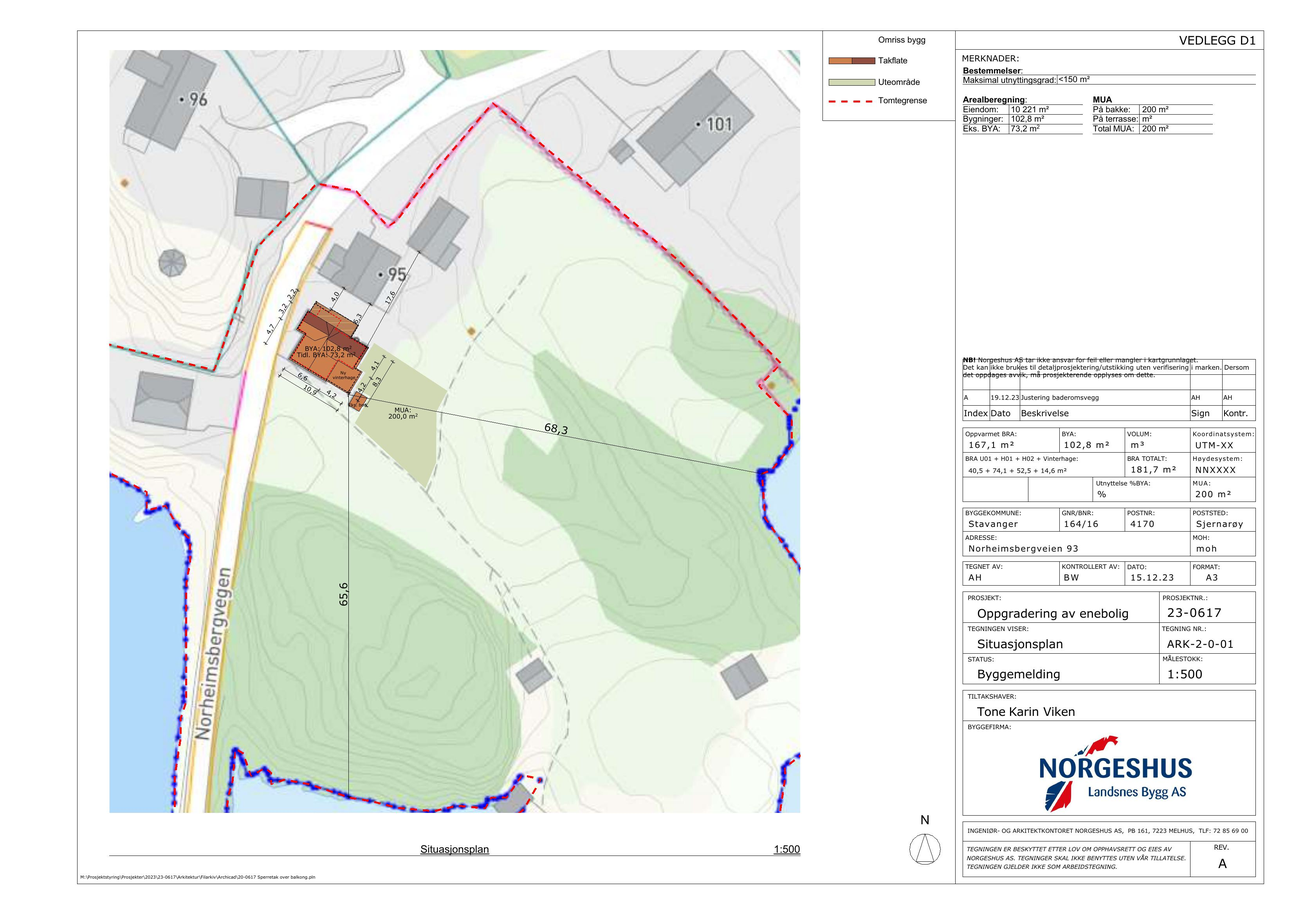situasjonskart: (111, 53, 794, 811)
